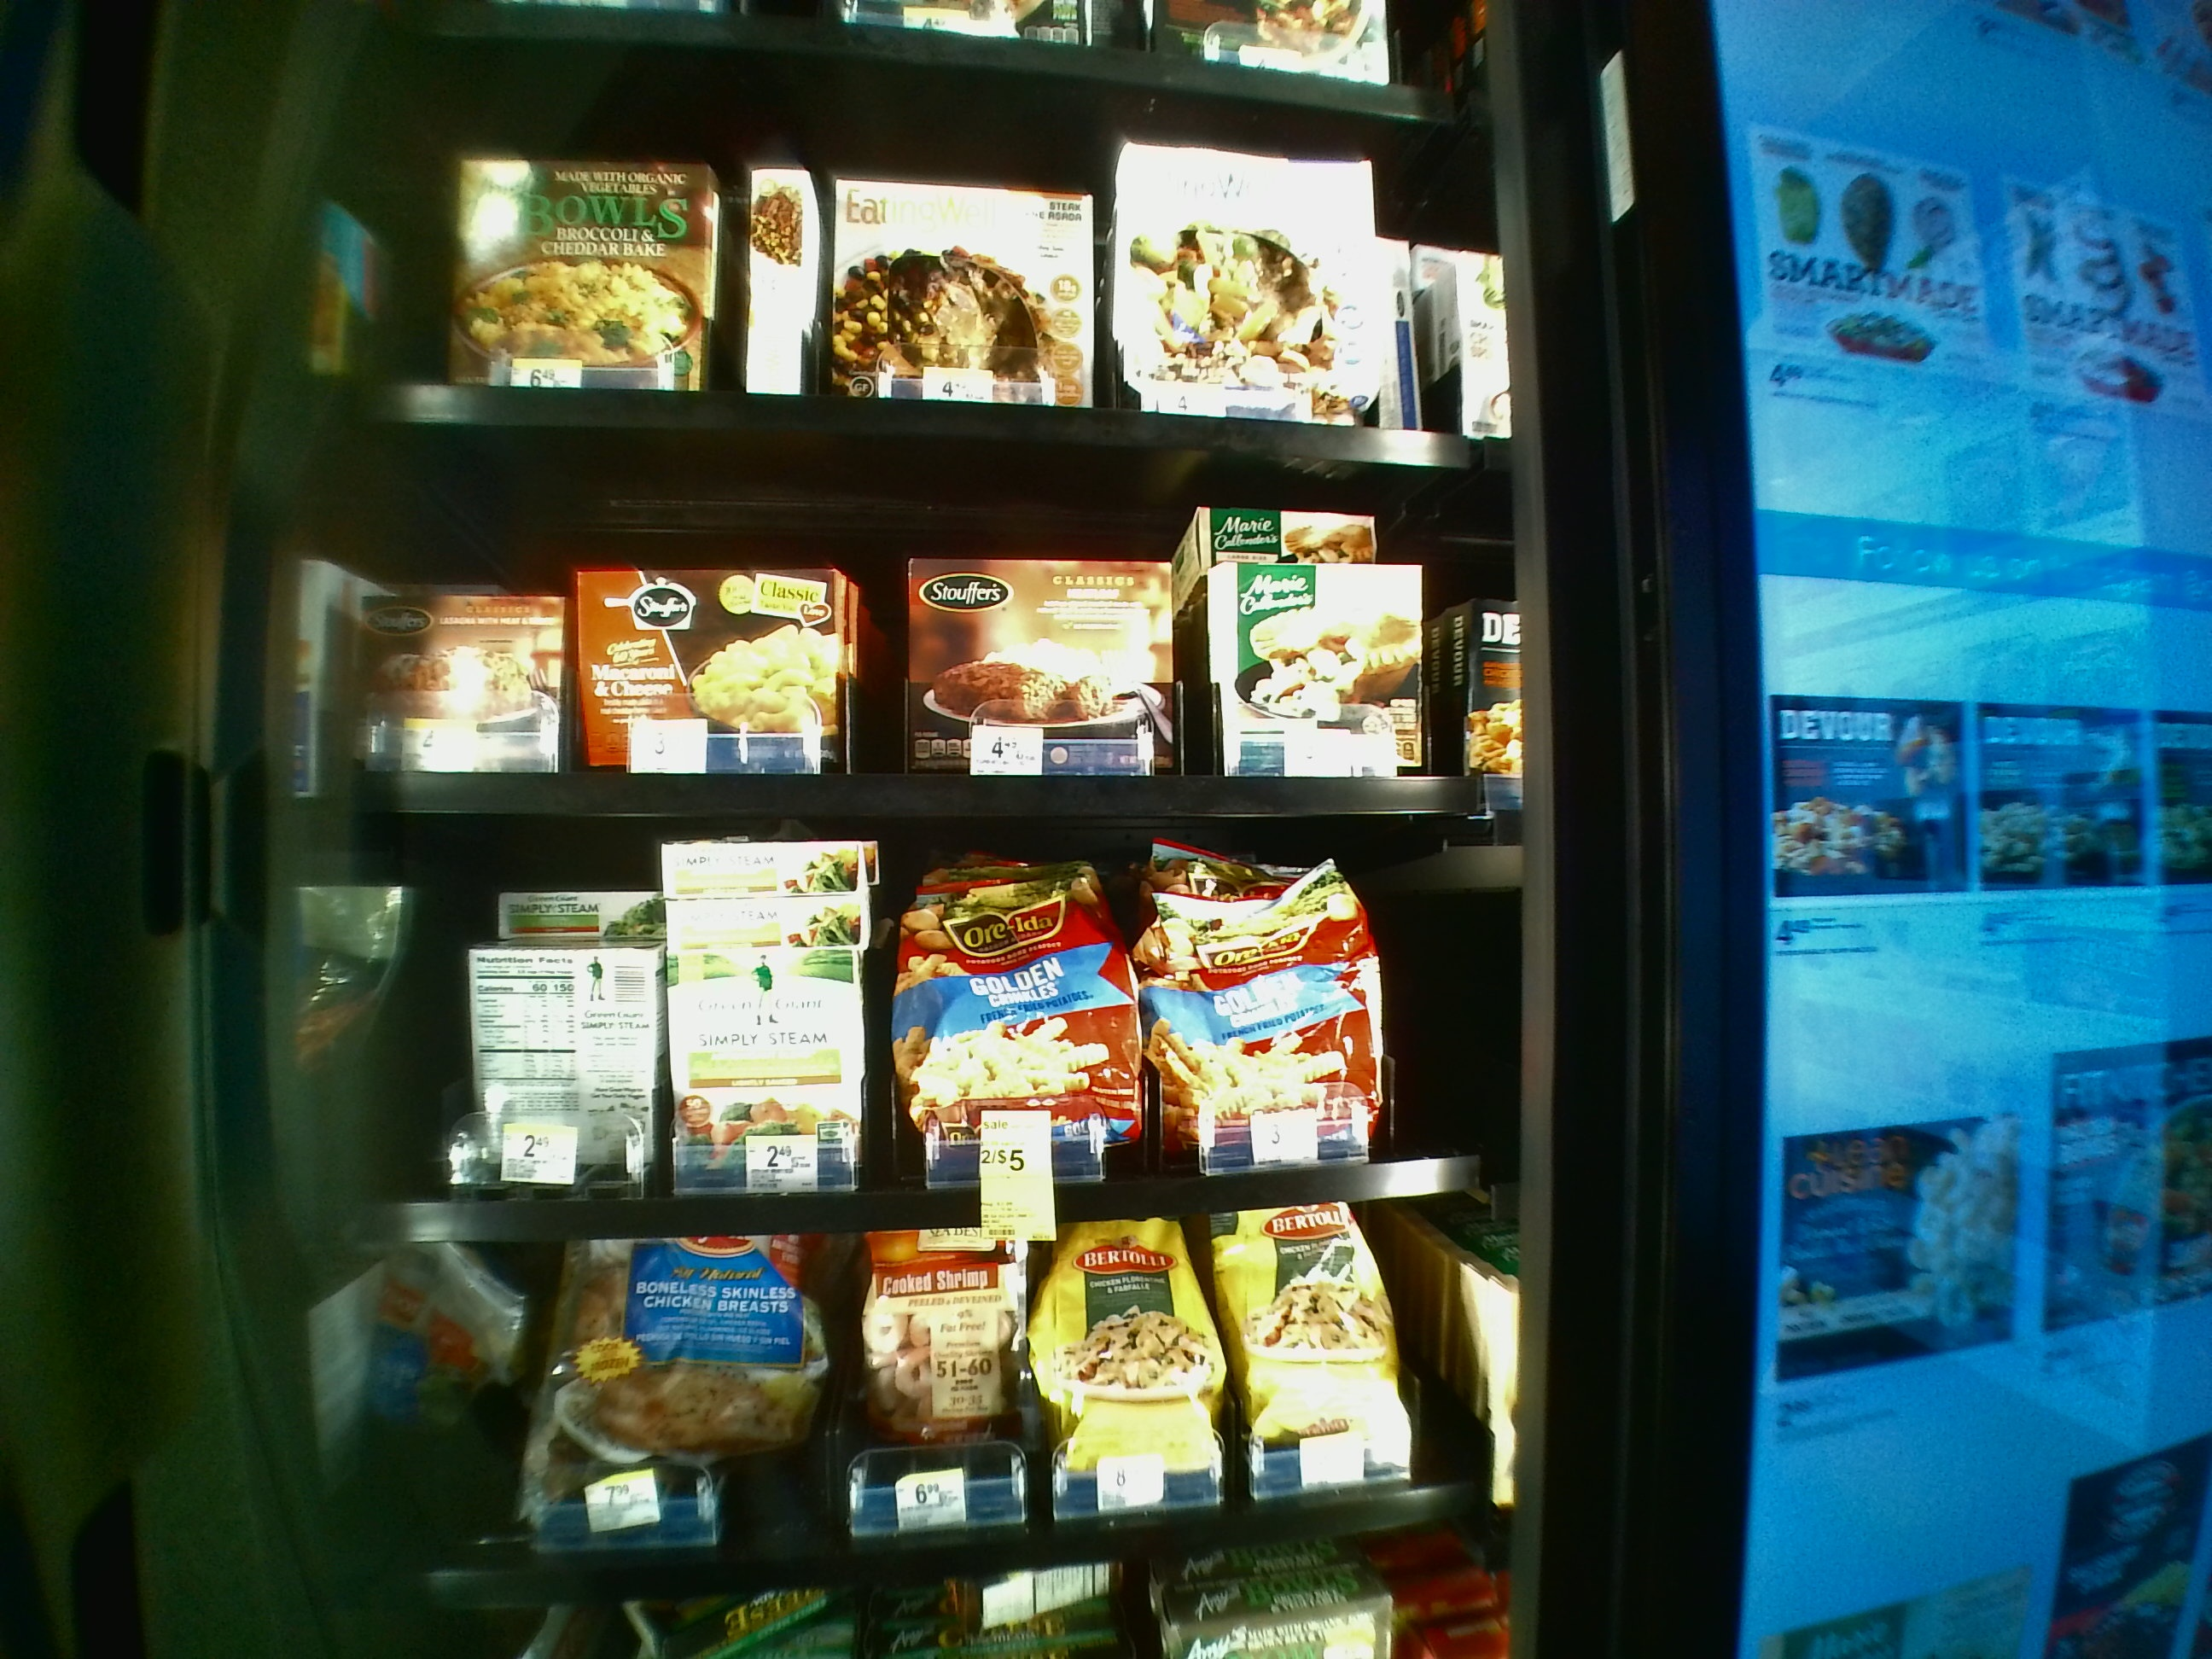shelf: (361, 829, 1505, 1239), (350, 430, 1501, 817)
